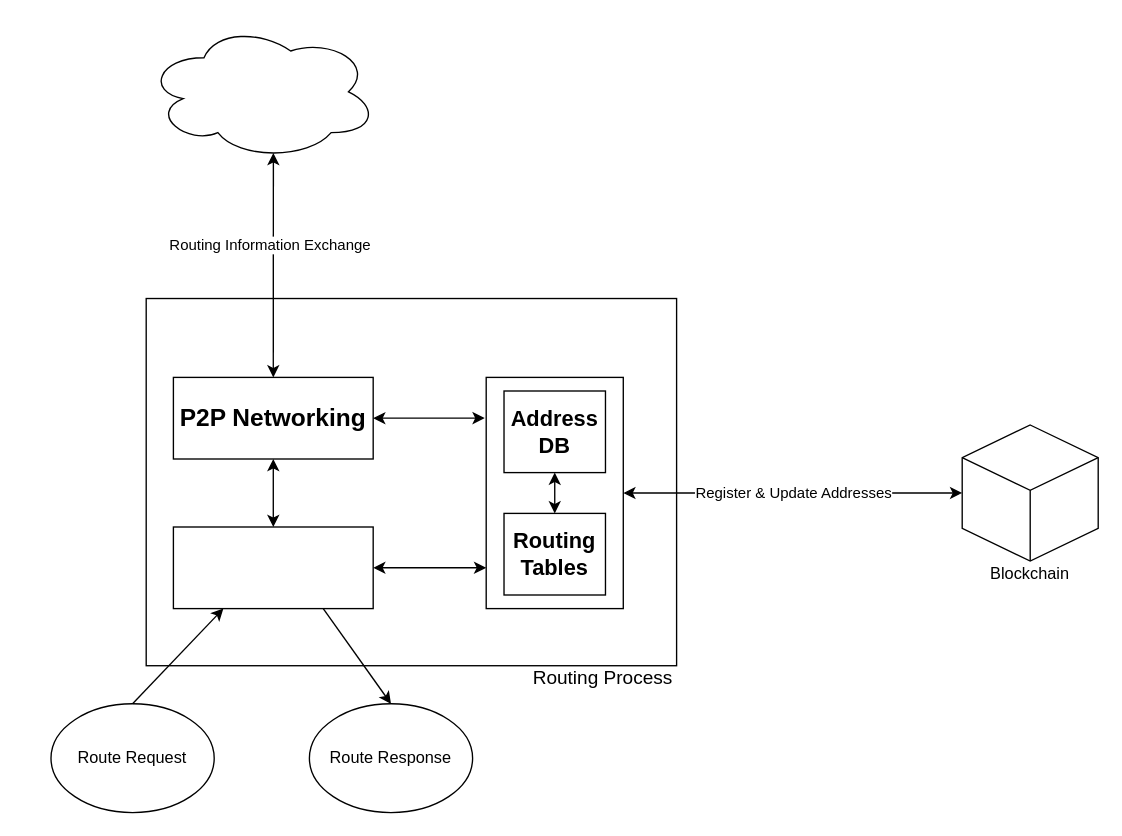
Image size: 1122x836. Some labels were removed from this diagram. The shapes that lost their labels are listed below. From the top down, each one's centre as x and y in pixels, then its label:
At pixel 261 91: "Network".
At pixel 272 567: "Routing Module".
